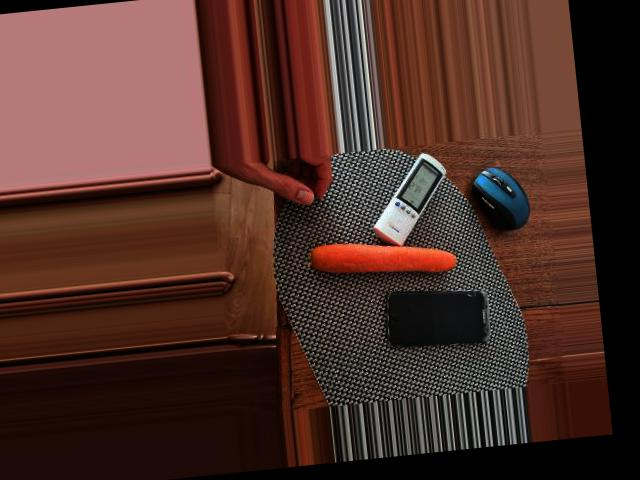carrot: (307, 229, 459, 287)
